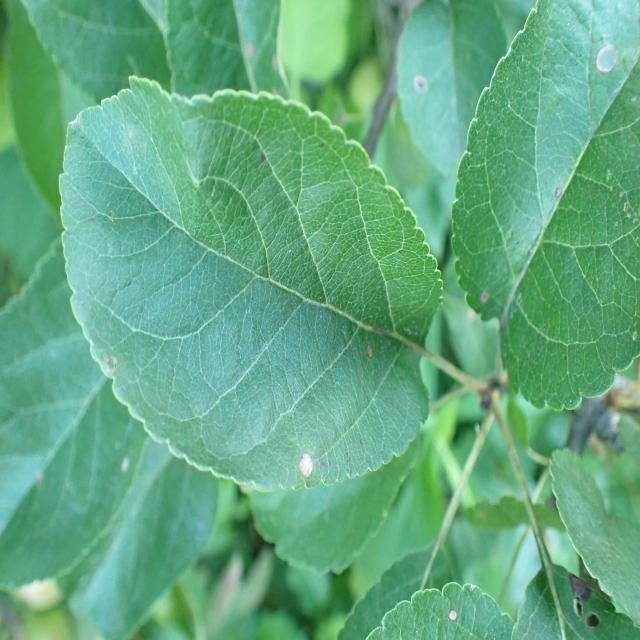Black Rot: (572, 3, 622, 103), (287, 422, 318, 498), (399, 68, 438, 122)
